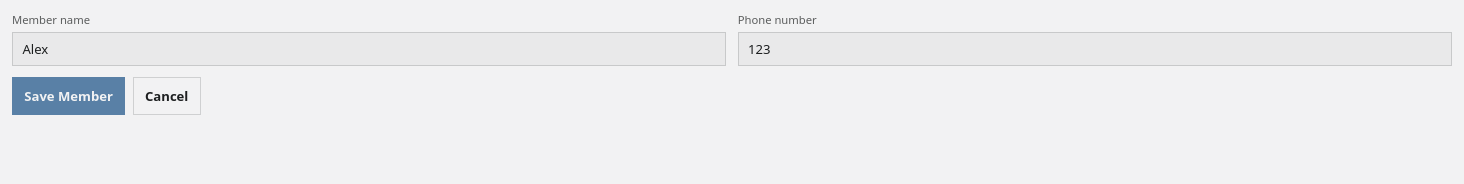
Test case: rejects impossible phones and announces general failures without losing input
Click the button "Save Member".
click(69, 96)  # box x1=12 y1=77 x2=125 y2=114
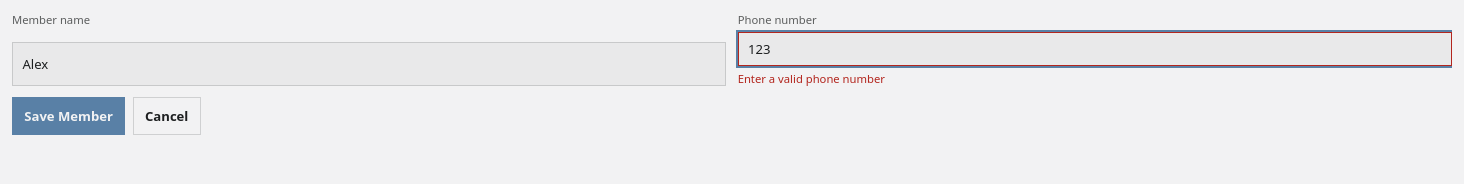
Replace the text in the field labelled "Phone number" with "9123 4567" at (1095, 49), box x1=738 y1=32 x2=1452 y2=66
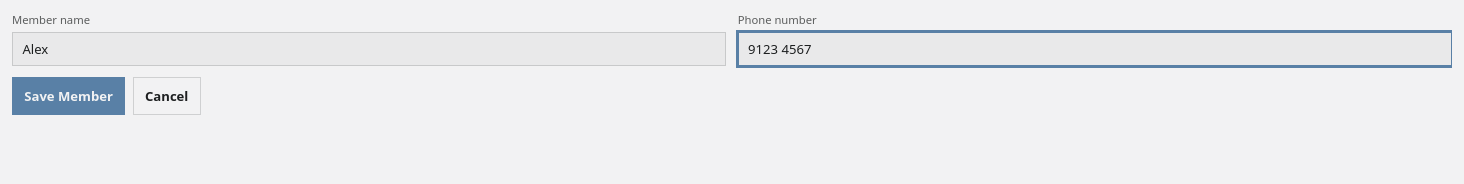
Click the button "Save Member".
click(69, 96)  # box x1=12 y1=77 x2=125 y2=114
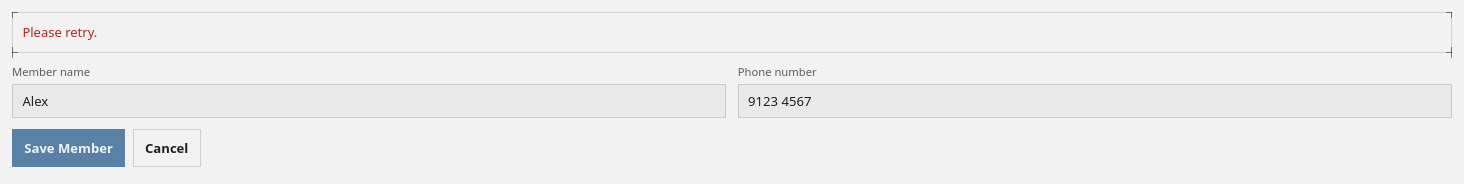
Now the message reads "Please retry.", box x1=22 y1=23 x2=97 y2=41
